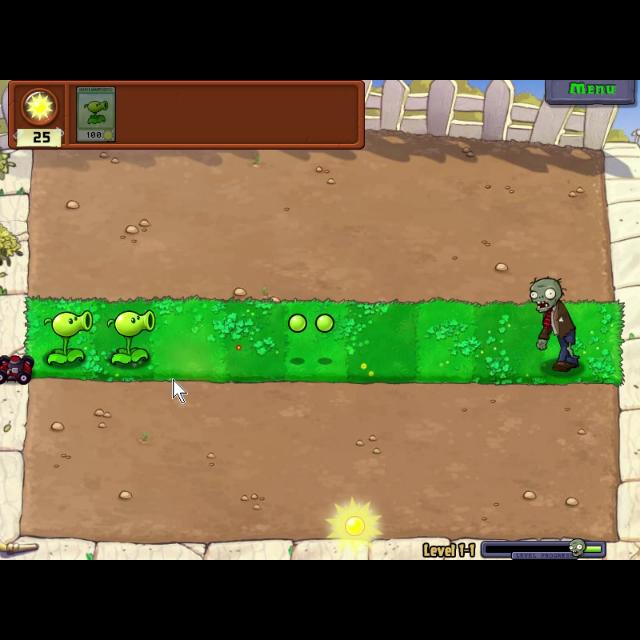Garden: (23, 295, 621, 387)
Menu Button: (543, 80, 639, 108)
Mower: (0, 352, 36, 388)
Peashooter: (76, 82, 118, 144)
Peashooter Seed: (40, 308, 96, 368), (104, 307, 156, 367)
Seed Panel: (8, 80, 368, 152)
Sun: (326, 499, 382, 553)
Zombie: (524, 273, 582, 377)
